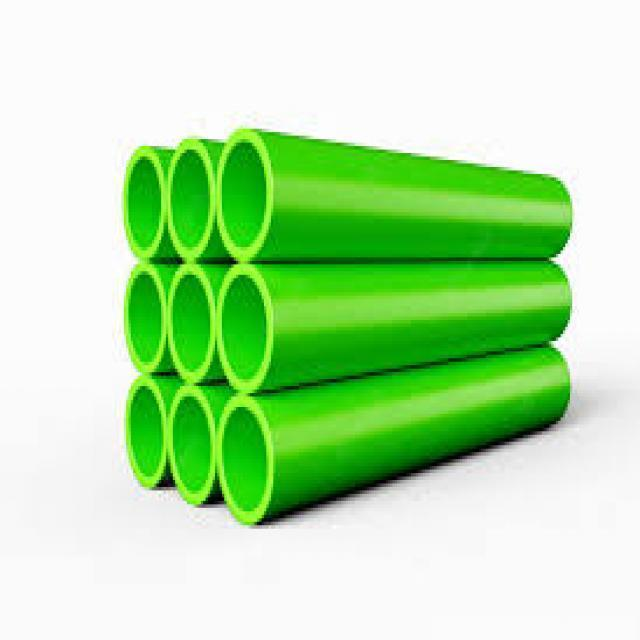pipe: (219, 132, 269, 253), (169, 143, 213, 259), (220, 275, 266, 381), (224, 410, 267, 513), (173, 270, 211, 373), (124, 153, 162, 255), (173, 398, 209, 494), (130, 270, 161, 365), (130, 388, 159, 479)
